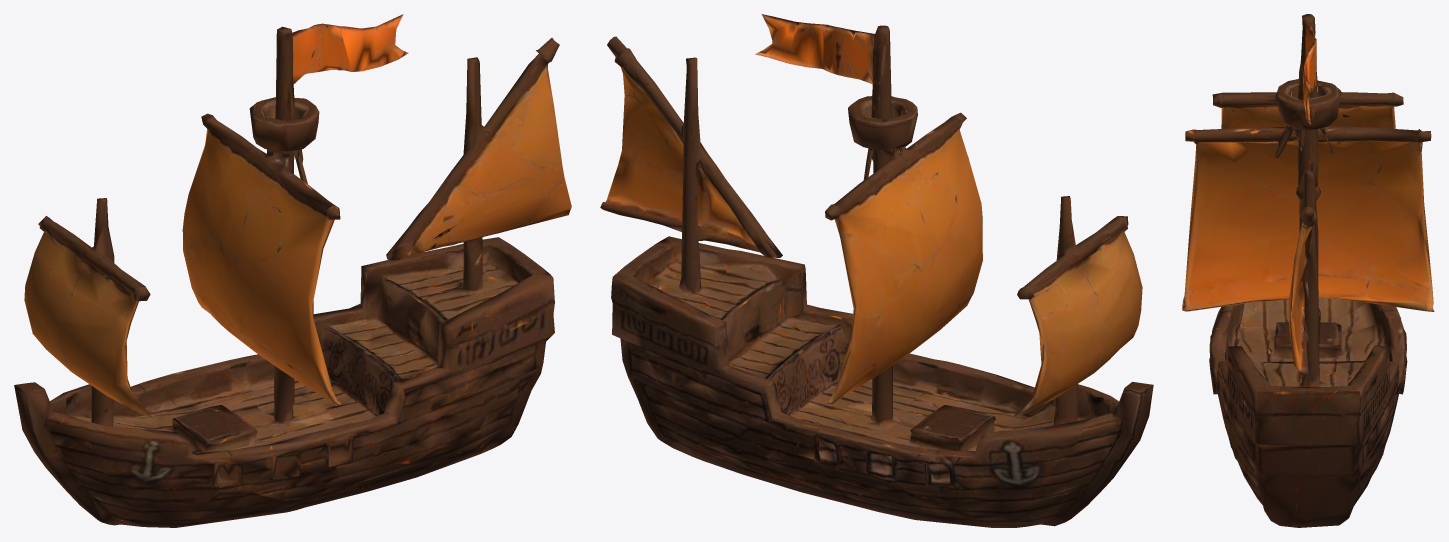
File: m_fortune.glb
The picture shows the model from 3 angles, left to right: view 1: azimuth 30°, elevation 25°; view 2: azimuth 150°, elevation 25°; view 3: azimuth 270°, elevation 25°; orthographic projection. The views are drawn at different scales.
Size of the model in its own units: 0.9991 by 0.7939 by 0.4306.
1 material, 1 textured.
